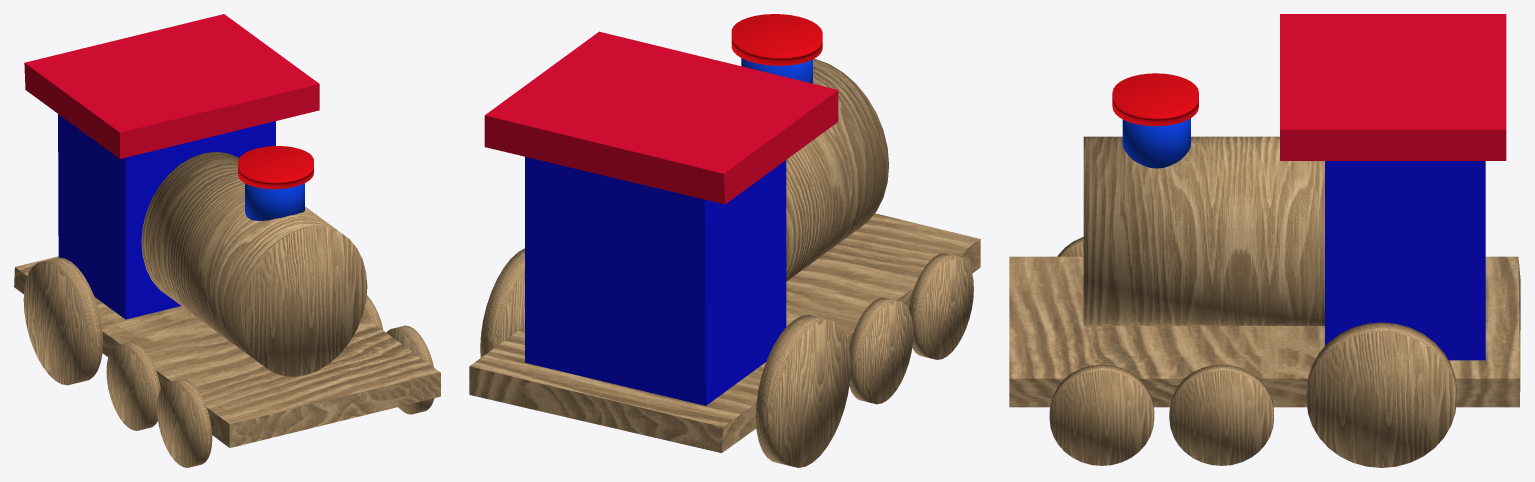
The model's file is proyectotrencito_001.gltf.
3 renders of one model, left to right at view 1: azimuth 30°, elevation 25°; view 2: azimuth 150°, elevation 25°; view 3: azimuth 270°, elevation 25°, orthographic. The views are drawn at different scales.
Parts seen in each view (by area): view 1: Cylinder, Cube.002, Cube.001, Cube, Cylinder.008, Cylinder.009, Cylinder.007, Cylinder.002, Cylinder.001, Cylinder.006; view 2: Cube, Cube.002, Cube.001, Cylinder, Cylinder.008, Cylinder.007, Cylinder.009, Cylinder.002, Cylinder.004, Cylinder.001; view 3: Cylinder, Cube.002, Cube.001, Cube, Cylinder.004, Cylinder.006, Cylinder.003, Cylinder.002, Cylinder.001.
Boxes of the visible parts, left/top/right/bottom form: Cylinder: left=141, top=151, right=367, bottom=376; Cube.002: left=24, top=14, right=319, bottom=158; Cube.001: left=14, top=256, right=440, bottom=447; Cube: left=58, top=114, right=275, bottom=319; Cylinder.008: left=23, top=257, right=102, bottom=385; Cylinder.009: left=157, top=379, right=212, bottom=467; Cylinder.007: left=106, top=342, right=160, bottom=430; Cylinder.002: left=238, top=146, right=313, bottom=189; Cylinder.001: left=245, top=183, right=304, bottom=220; Cylinder.006: left=386, top=325, right=434, bottom=414; Cube: left=525, top=156, right=786, bottom=405; Cube.002: left=484, top=31, right=838, bottom=204; Cube.001: left=469, top=213, right=980, bottom=452; Cylinder: left=786, top=58, right=888, bottom=281; Cylinder.008: left=755, top=314, right=850, bottom=467; Cylinder.007: left=849, top=297, right=913, bottom=404; Cylinder.009: left=909, top=253, right=973, bottom=359; Cylinder.002: left=731, top=14, right=822, bottom=65; Cylinder.004: left=480, top=248, right=524, bottom=357; Cylinder.001: left=741, top=58, right=812, bottom=83; Cylinder: left=1083, top=136, right=1324, bottom=325; Cube.002: left=1280, top=14, right=1506, bottom=160; Cube.001: left=1009, top=256, right=1520, bottom=407; Cube: left=1325, top=161, right=1485, bottom=360; Cylinder.004: left=1306, top=322, right=1456, bottom=467; Cylinder.006: left=1049, top=364, right=1154, bottom=465; Cylinder.003: left=1169, top=364, right=1273, bottom=465; Cylinder.002: left=1112, top=73, right=1198, bottom=126; Cylinder.001: left=1122, top=118, right=1190, bottom=168.
Bounding box in the file's own units: 2.91 × 3.11 × 4.43.
6 materials, 2 textured.
